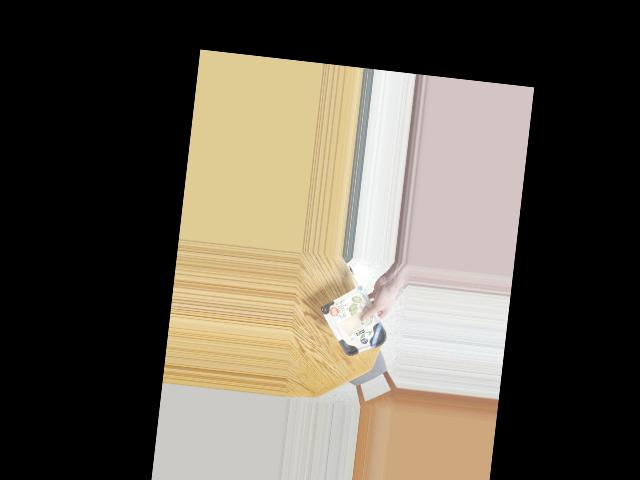cheese: (320, 293, 394, 357)
